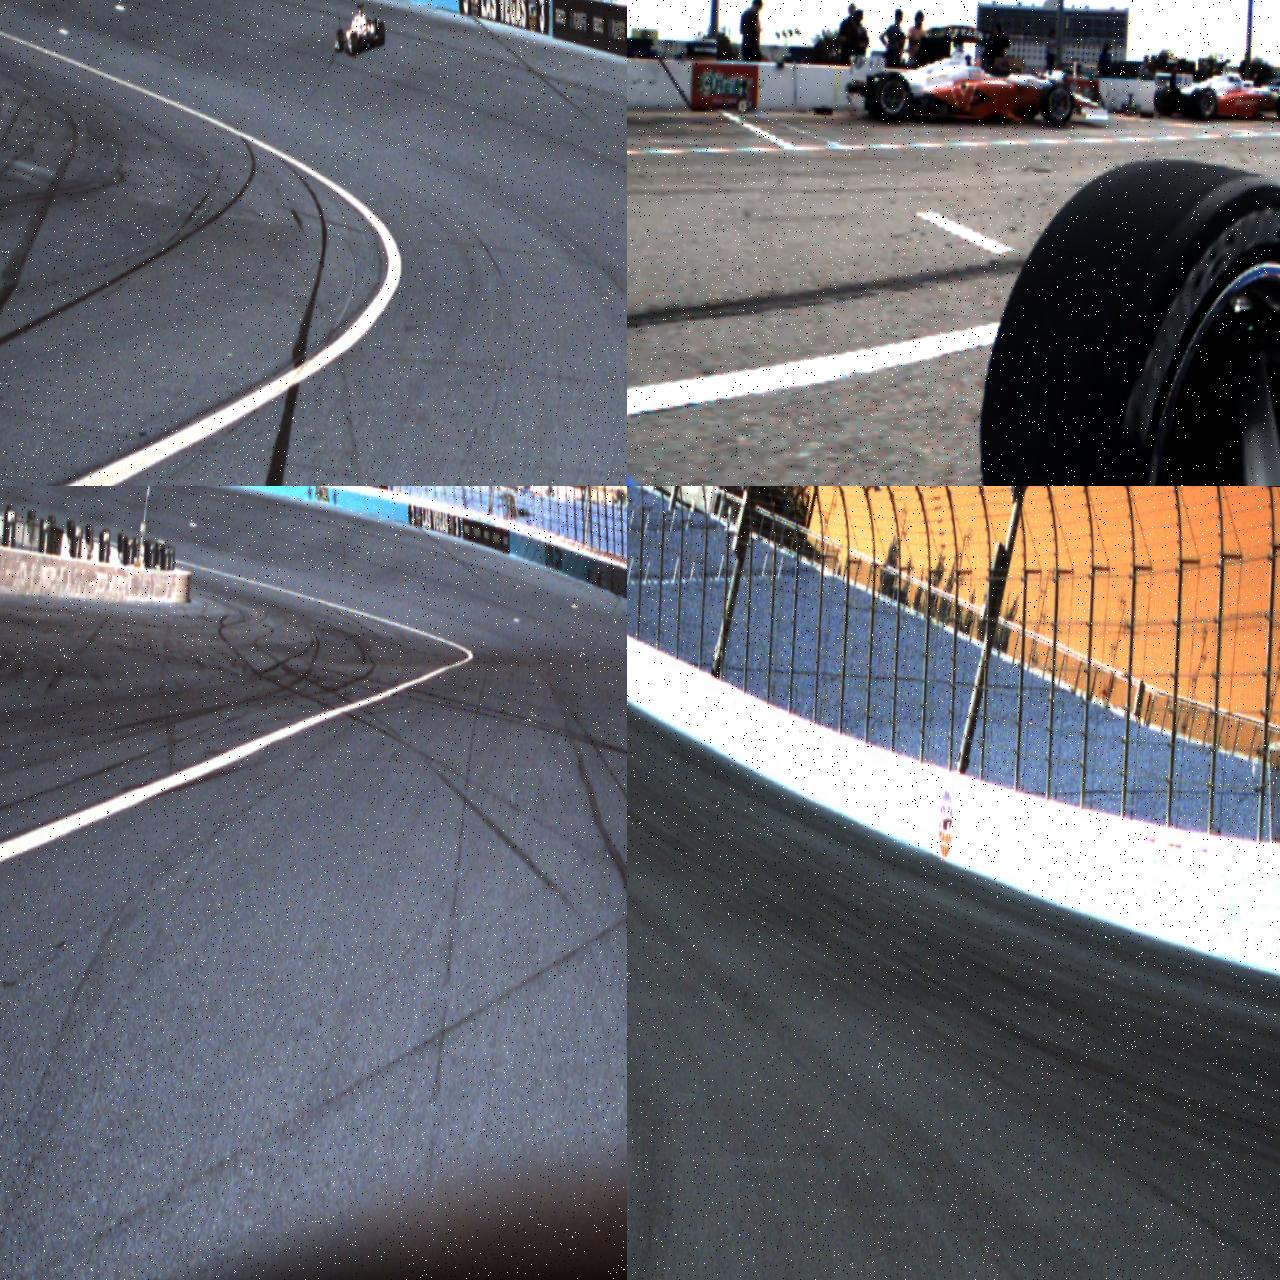AV: (849, 28, 1112, 135), (1152, 54, 1280, 125), (334, 2, 387, 57)
Wheel: (969, 150, 1280, 486), (871, 70, 913, 124), (1041, 83, 1075, 127), (1191, 88, 1219, 121), (1153, 87, 1173, 116), (375, 21, 386, 45), (348, 32, 358, 55), (335, 28, 343, 52), (1275, 91, 1280, 121)
